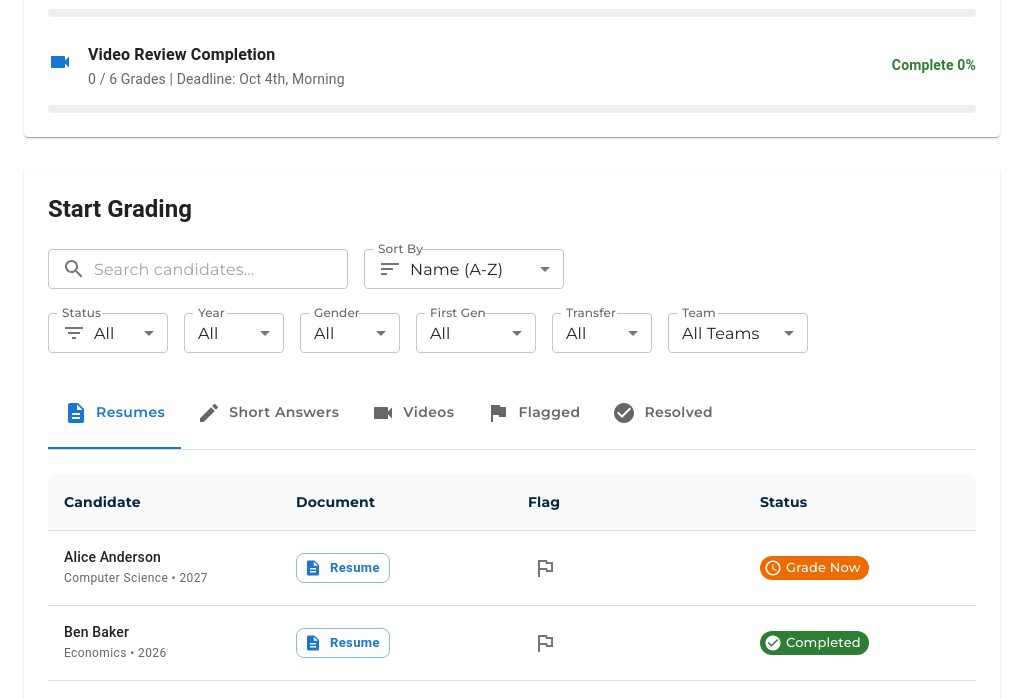
it: AdminDocumentGrading team filter › filters results by selected team and restoring All Teams shows all results
(page scrolled)
Press the mouse on the dropdown labelled "All Teams" at x=721, y=333, box left=682, top=324, right=760, bottom=343
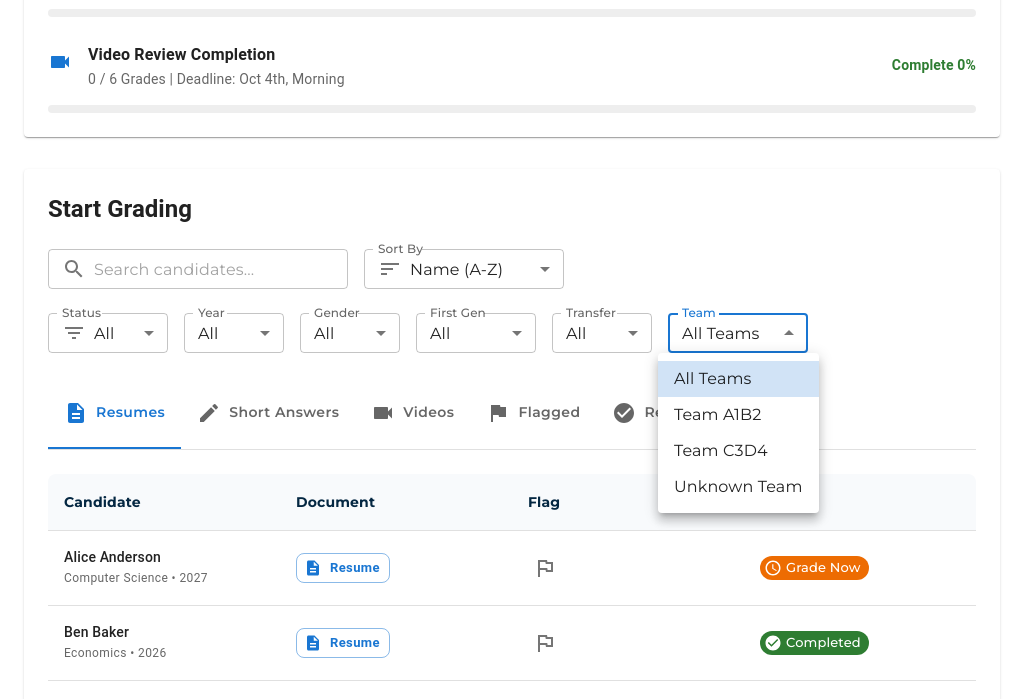
Click the option "Team A1B2". click: x=718, y=414
box: left=674, top=405, right=761, bottom=424
(page scrolled)
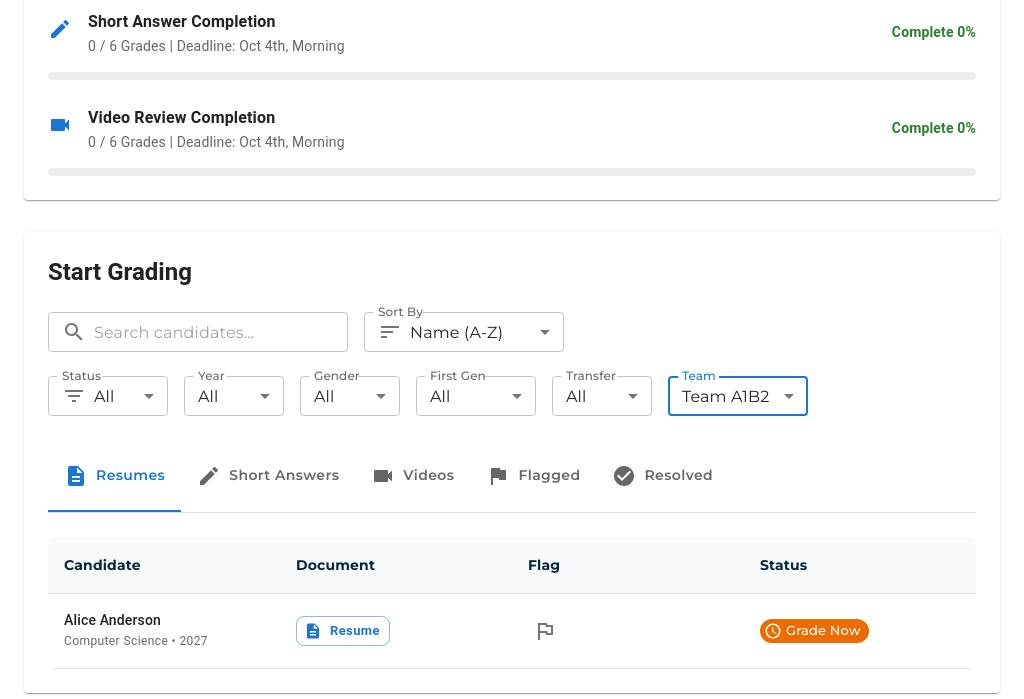
Expected: the text "Alice Anderson" is shown, left=64, top=612, right=161, bottom=628
Expected: the text "Ben Baker" is gone
Press the mouse on the dropdown labelled "Team A1B2" at x=726, y=396, box left=682, top=387, right=769, bottom=406
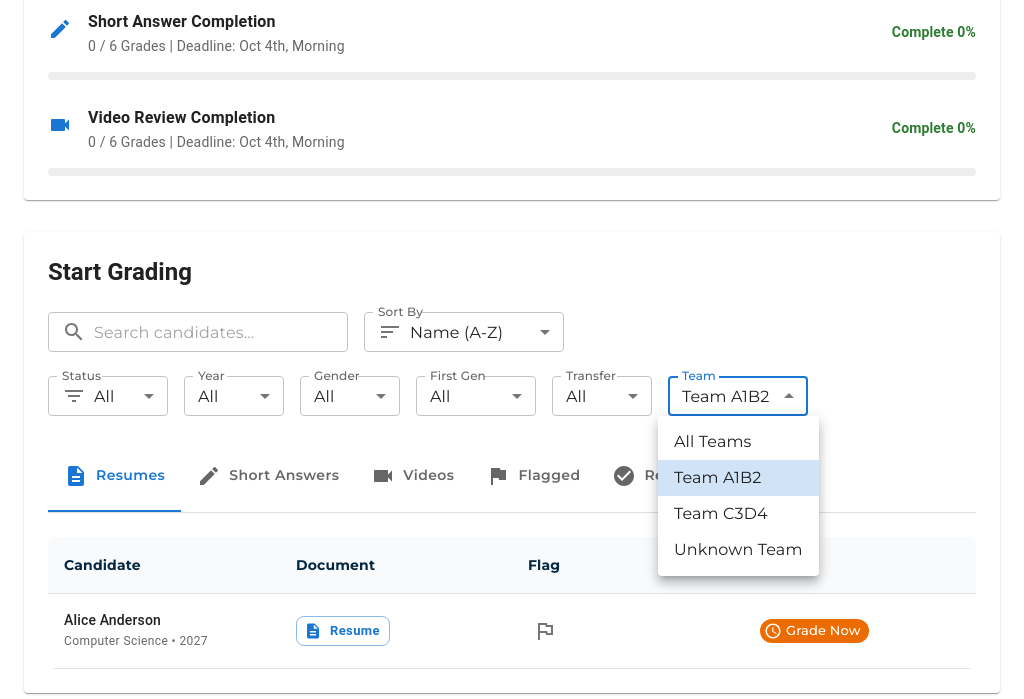
Click the option "All Teams". click: x=713, y=442
box: left=674, top=432, right=752, bottom=451
(page scrolled)
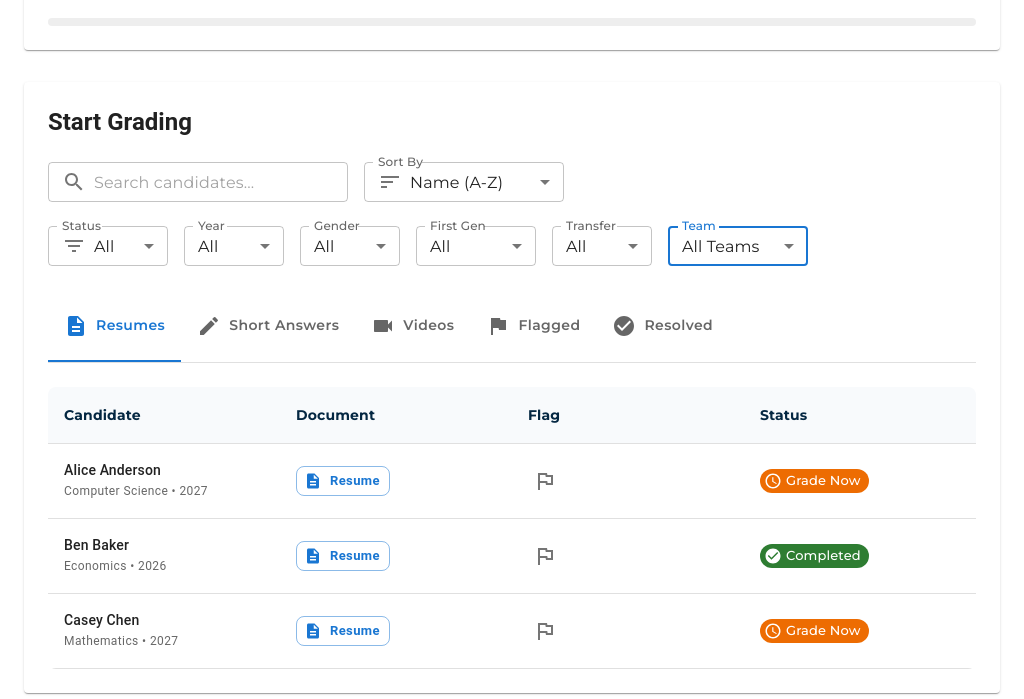
Expected: the text "Ben Baker" is shown, left=64, top=537, right=129, bottom=553
Expected: the text "Casey Chen" is shown, left=64, top=612, right=139, bottom=628
